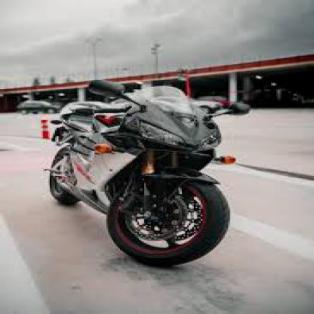Motocicleta: (39, 72, 250, 272)
